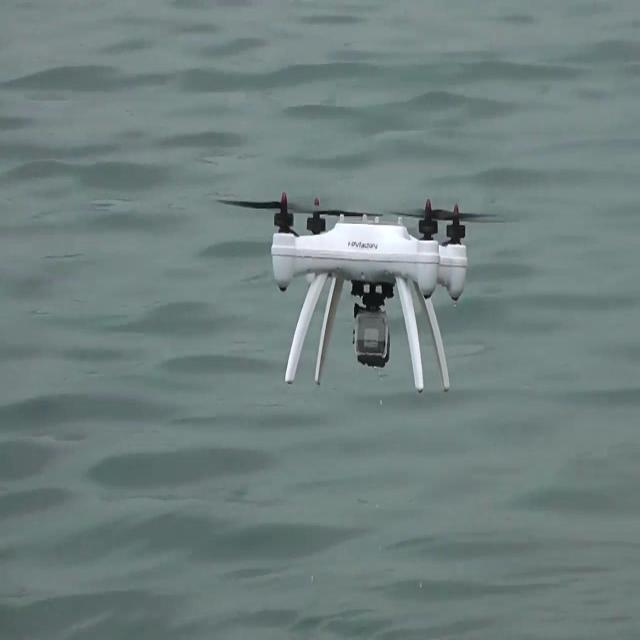drone: (216, 190, 506, 396)
